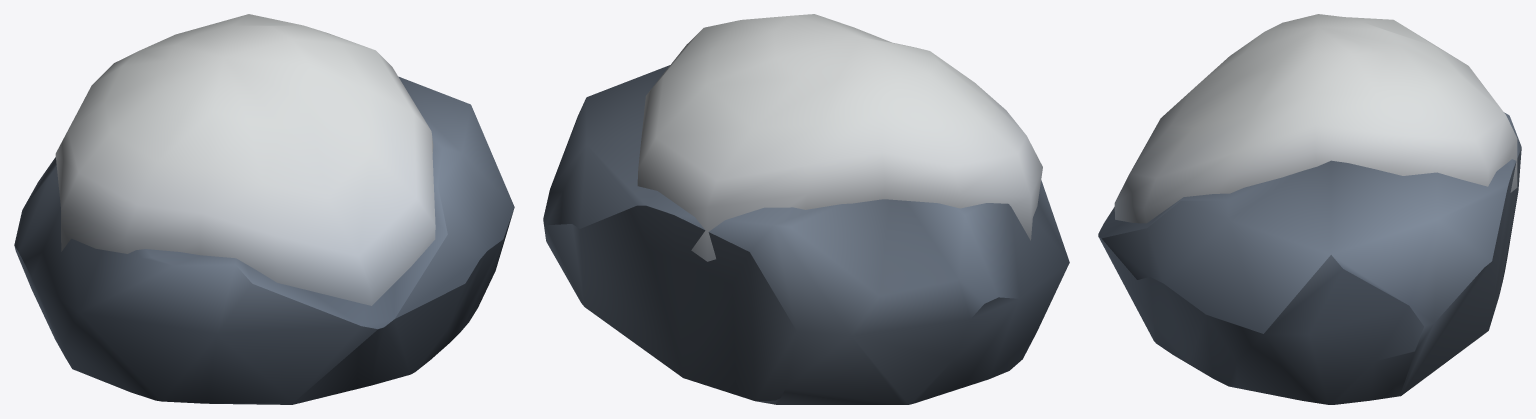
Rendered from snow_rock_b.glb.
The picture shows the model from 3 angles, left to right: view 1: azimuth 30°, elevation 25°; view 2: azimuth 150°, elevation 25°; view 3: azimuth 270°, elevation 25°; orthographic projection. The views are drawn at different scales.
Parts seen in each view (by area): view 1: snow_rock_b; view 2: snow_rock_b; view 3: snow_rock_b.
Boxes of the visible parts, left/top/right/bottom form: snow_rock_b: left=14, top=14, right=514, bottom=404; snow_rock_b: left=543, top=14, right=1069, bottom=404; snow_rock_b: left=1098, top=14, right=1521, bottom=404.
Bounding box in the file's own units: 0.7954 × 0.4922 × 0.6999.
